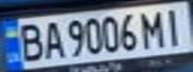0: (100, 12, 124, 54), (84, 15, 106, 55)
6: (118, 10, 142, 52)
9: (63, 16, 84, 57)
A: (36, 18, 66, 60)
B: (12, 20, 48, 63)
I: (157, 4, 190, 46)
M: (136, 7, 169, 50)
